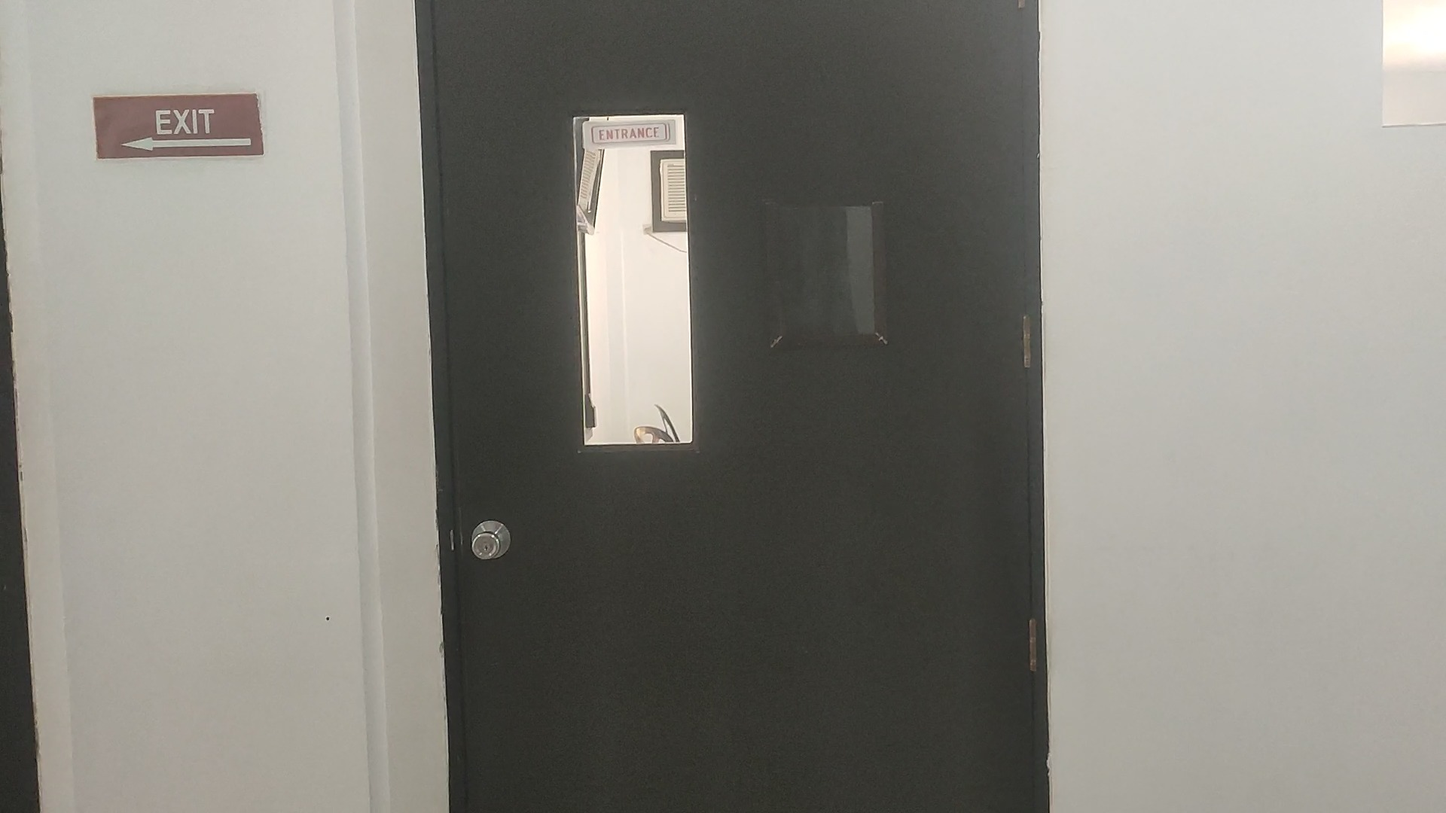door: (413, 0, 1051, 813)
